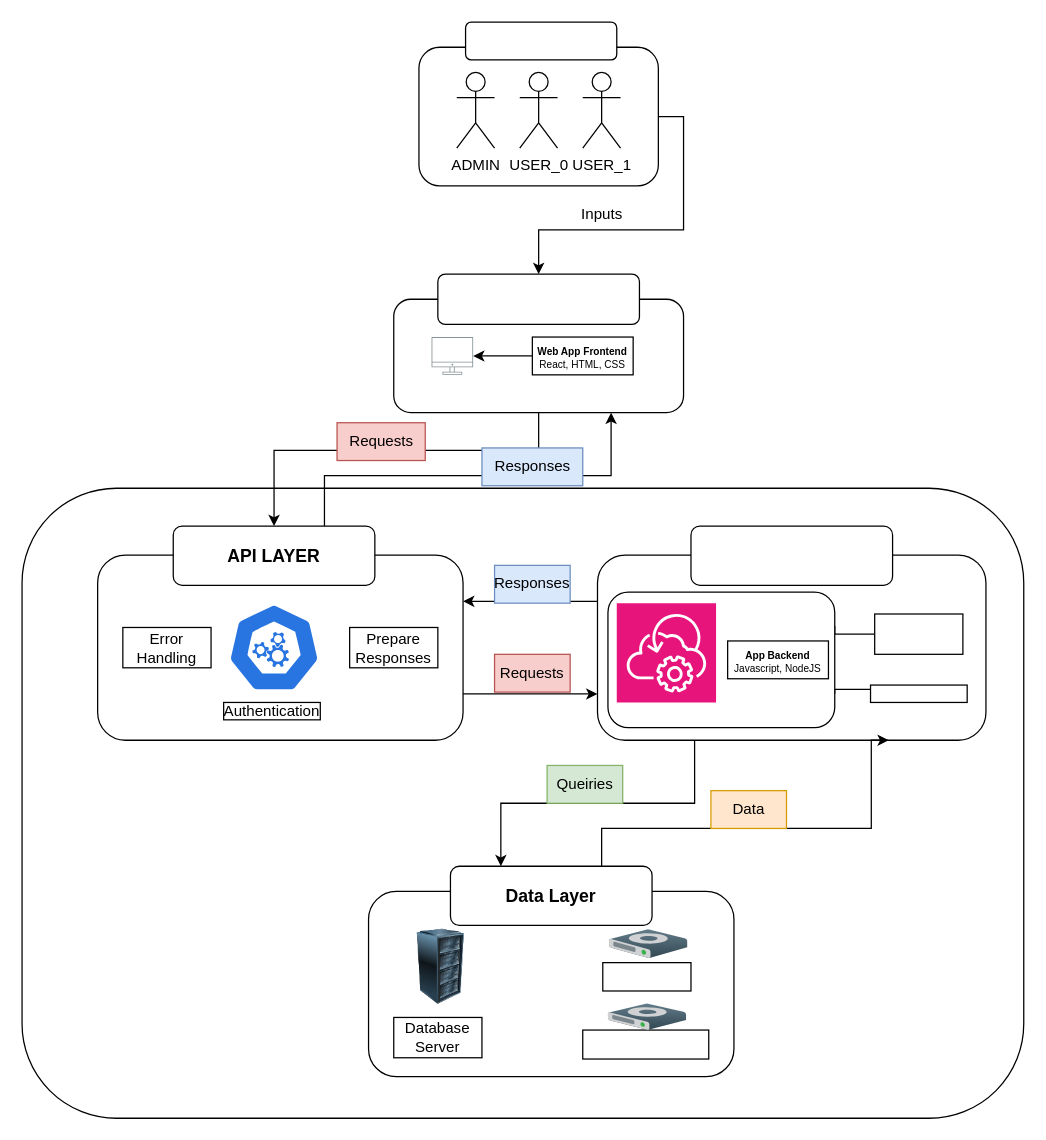
Some shapes in this 1046 by 1140 pixel diagram are drawn without their labels. Here are the shapes that lost their labels. From the top down, the box of each, then its label:
(464, 21, 617, 60): Users
(437, 273, 639, 324): Presentation Layer
(431, 336, 472, 374): Display
(690, 525, 893, 585): Business Layer
(873, 613, 963, 654): External Integrations
(869, 684, 967, 702): Calculate
(602, 961, 691, 991): Client Data
(581, 1029, 709, 1059): Business Data
